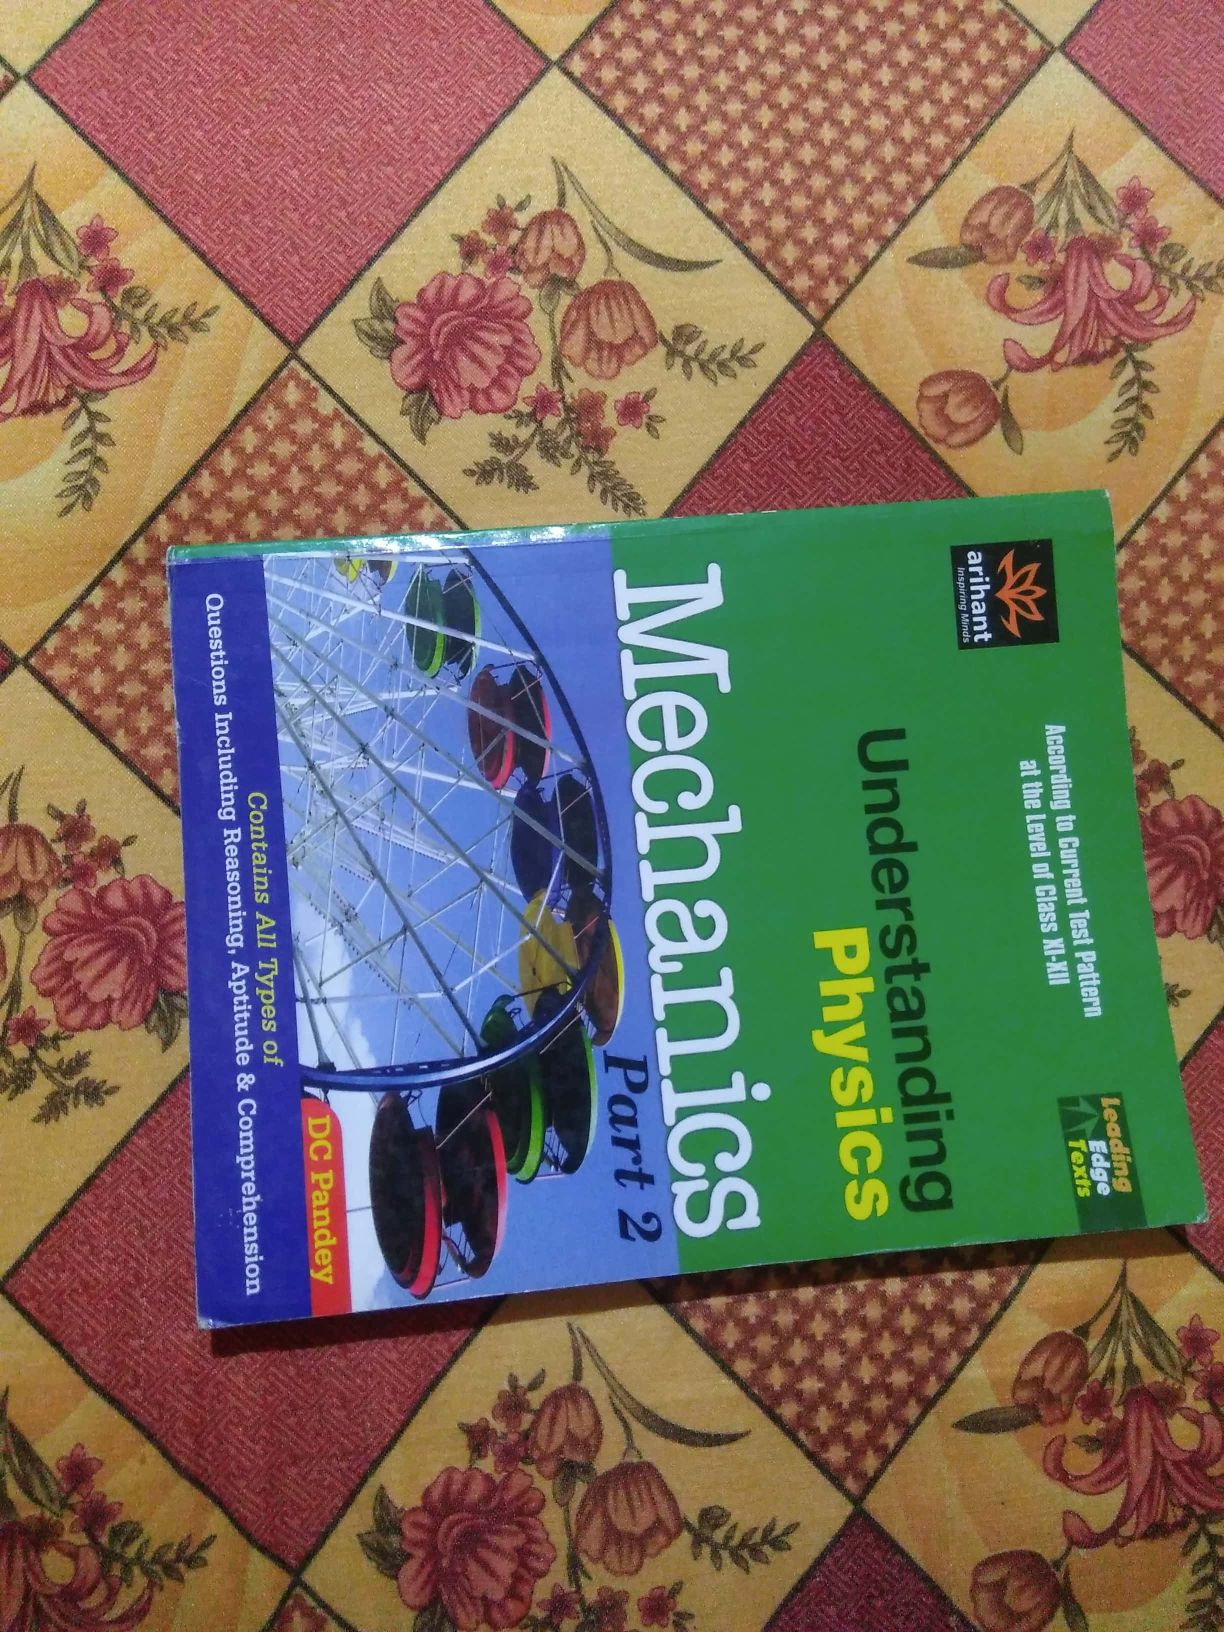mechanics: (147, 510, 1191, 1309)
